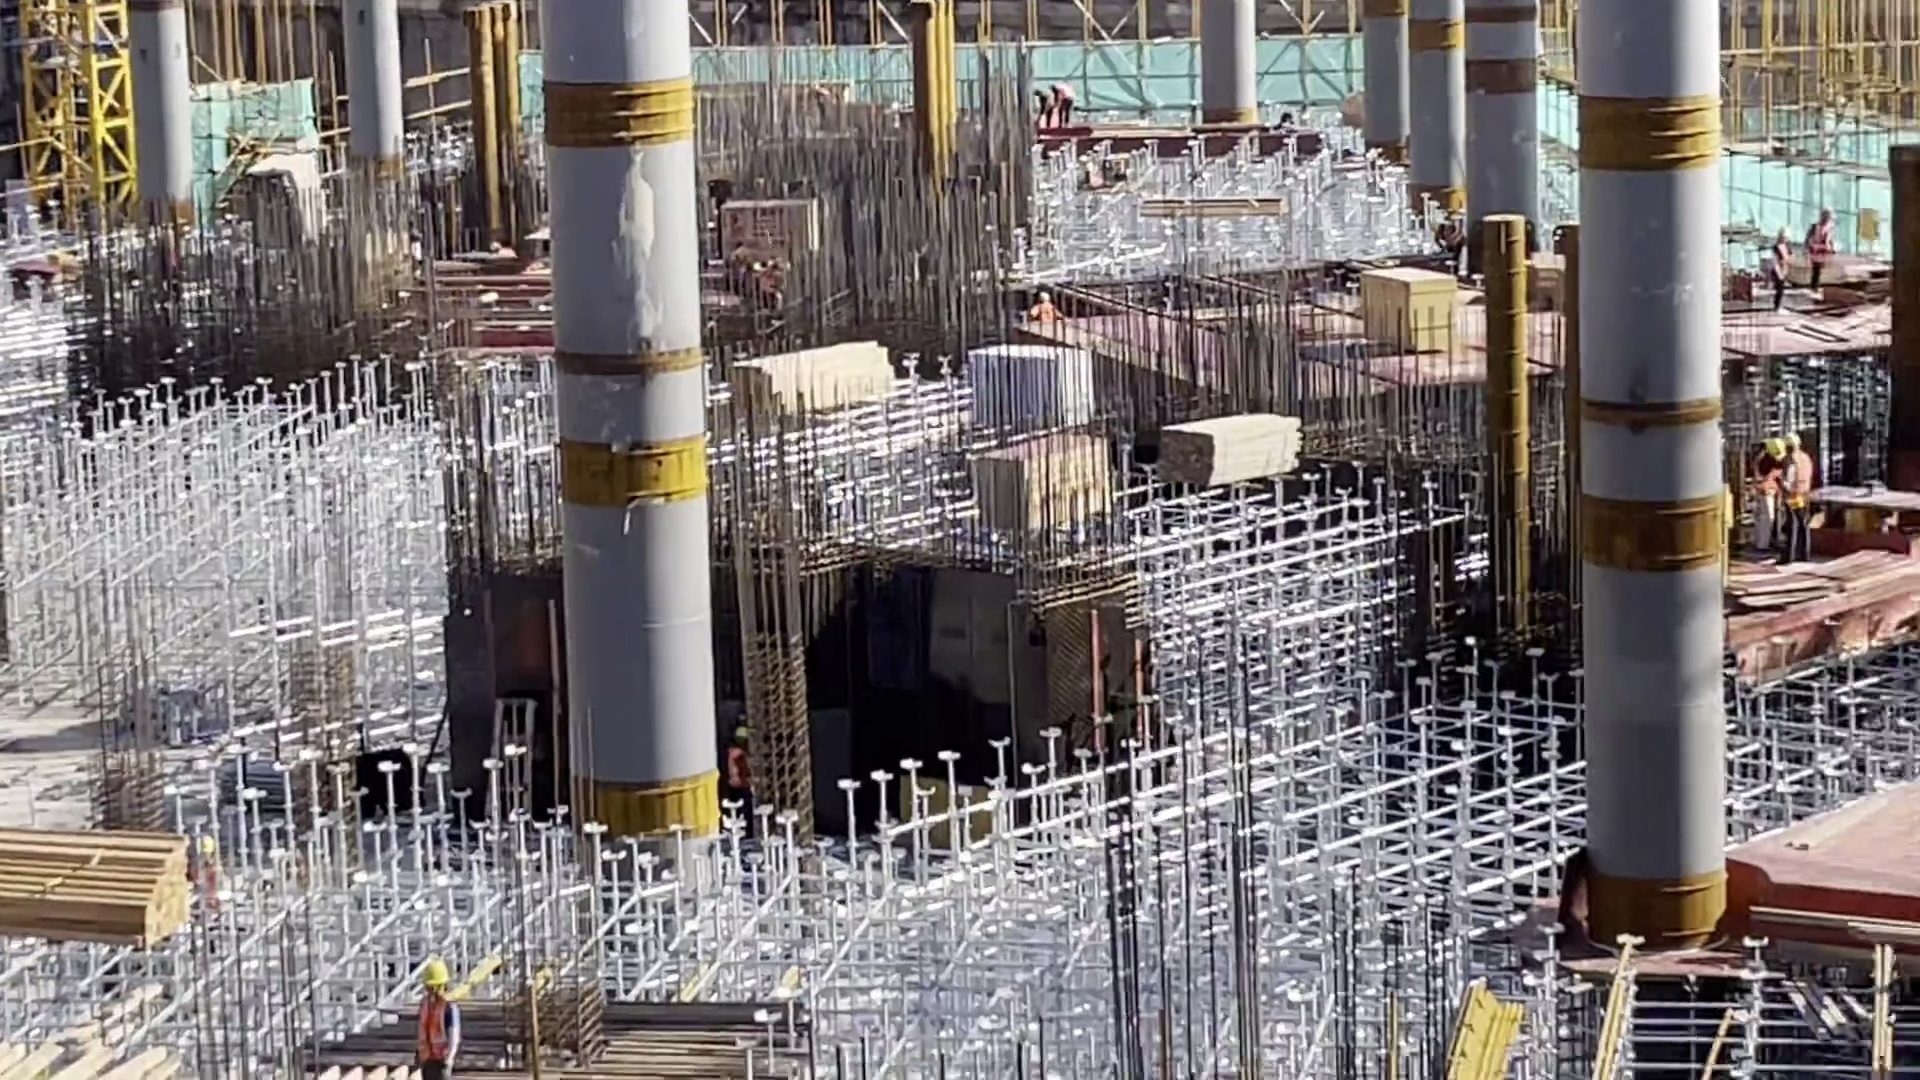board: (961, 429, 1111, 529), (1358, 260, 1458, 364)
cutter: (1806, 476, 1920, 556)
helmet: (419, 959, 451, 987), (1767, 439, 1787, 463), (1777, 432, 1802, 451), (735, 728, 749, 739)
person: (414, 957, 462, 1080), (1780, 430, 1816, 567), (1753, 436, 1781, 553), (1803, 205, 1837, 295), (189, 837, 221, 929), (1770, 225, 1790, 314), (725, 727, 749, 798), (1022, 293, 1070, 320), (1048, 85, 1076, 127), (1033, 88, 1056, 129)
rebar: (281, 996, 816, 1080)
vest: (418, 993, 450, 1060), (1785, 453, 1811, 509), (1755, 452, 1778, 496), (723, 750, 749, 784)
wood: (1, 824, 187, 941), (726, 338, 896, 414), (1157, 406, 1306, 486), (1140, 194, 1283, 215)
